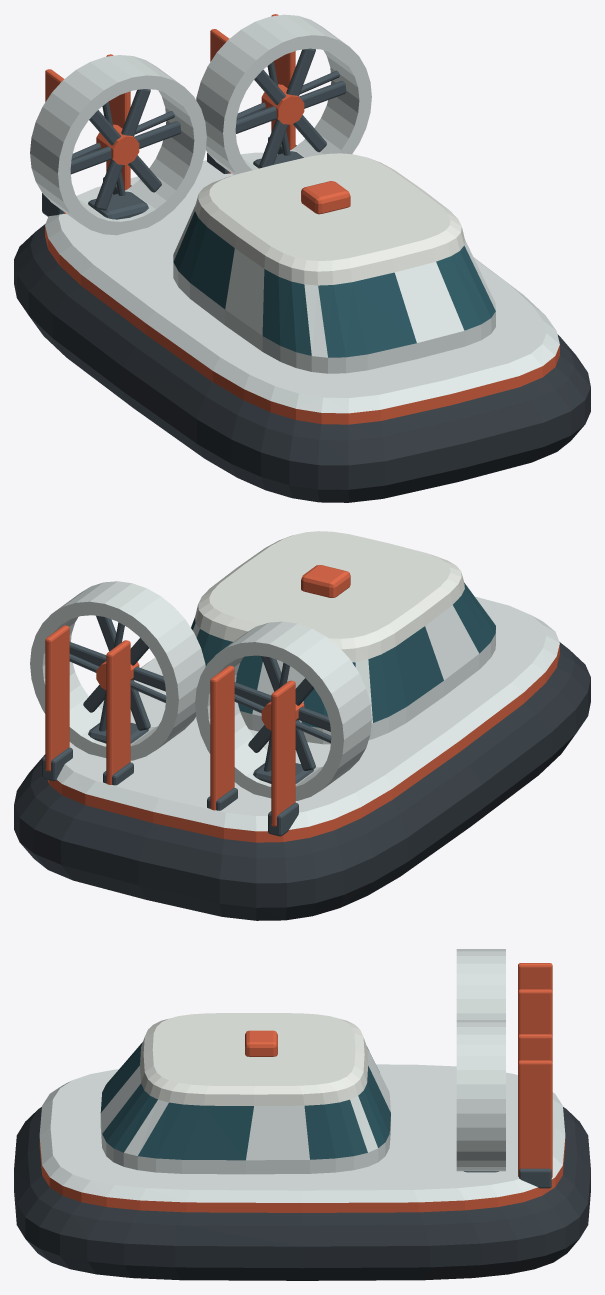
File: NEW_RECOVERY_120_LOD1.glb
3 views of the same model, one above another, from view 1: azimuth 30°, elevation 25°; view 2: azimuth 150°, elevation 25°; view 3: azimuth 270°, elevation 25° (orthographic). The views are drawn at different scales.
Parts seen in each view (by area): view 1: Hovercraft_complete_skin; view 2: Hovercraft_complete_skin; view 3: Hovercraft_complete_skin.
Part boxes in pixels (left/top/right/bottom): Hovercraft_complete_skin: left=14, top=14, right=590, bottom=502; Hovercraft_complete_skin: left=14, top=531, right=590, bottom=920; Hovercraft_complete_skin: left=14, top=949, right=590, bottom=1280.
Bounding box in the file's own units: 4 × 2.71 × 6.32.
